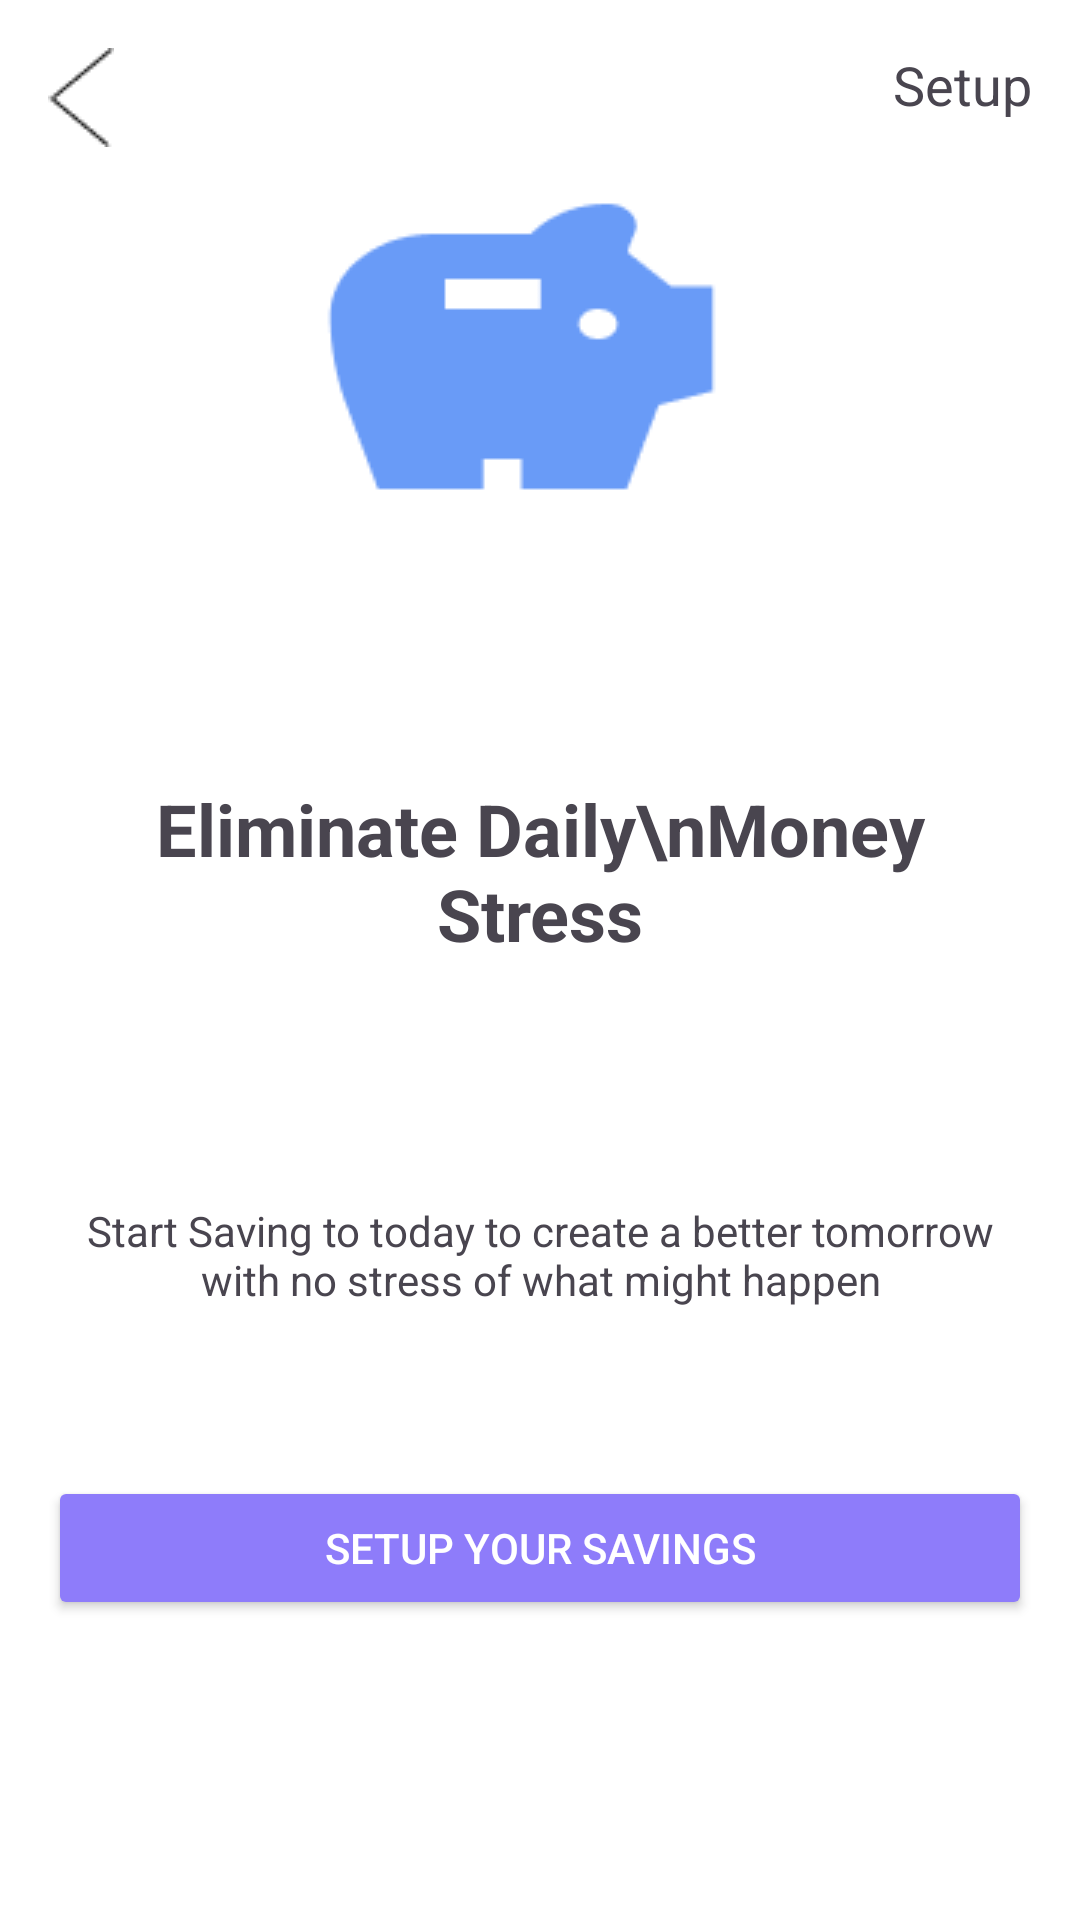

Icon click points for this 1080×1920 phone screenshot, format point (x, y):
back arrow: point (81, 97)
